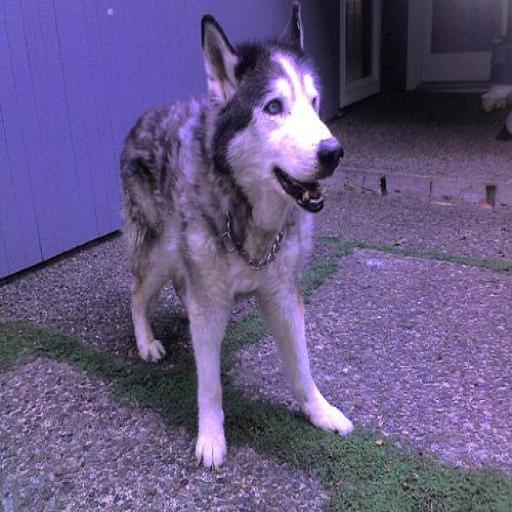dog_face: (202, 12, 338, 209)
